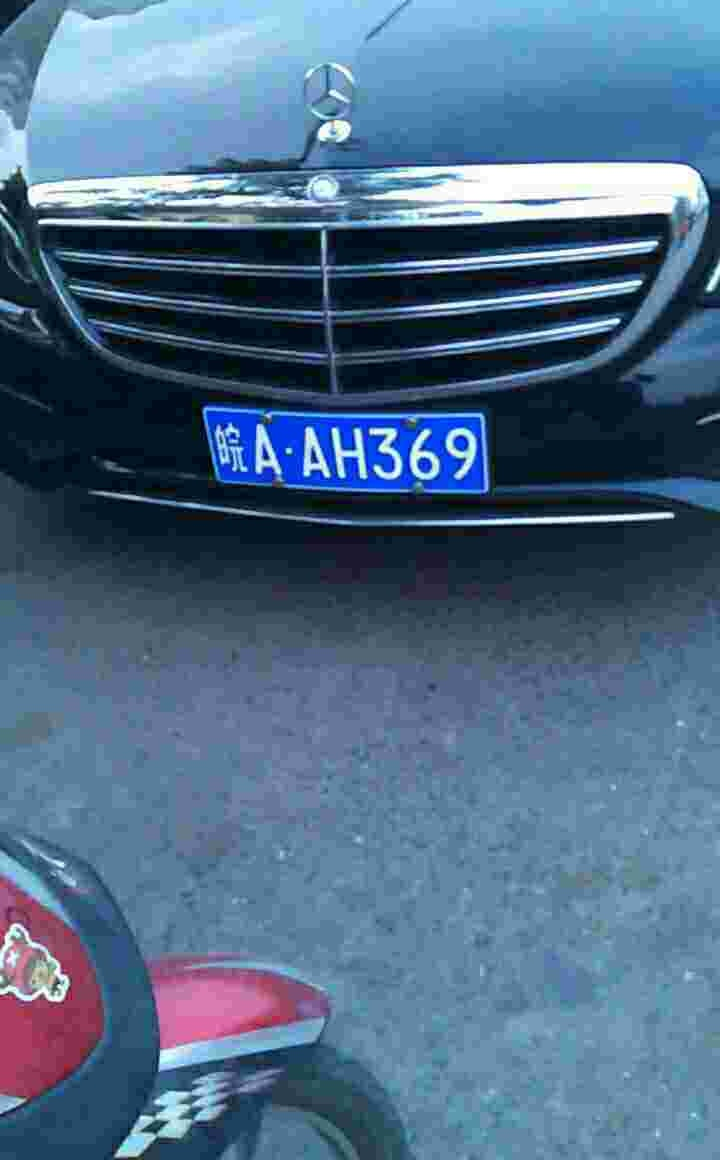license_plate: (209, 406, 496, 500)
